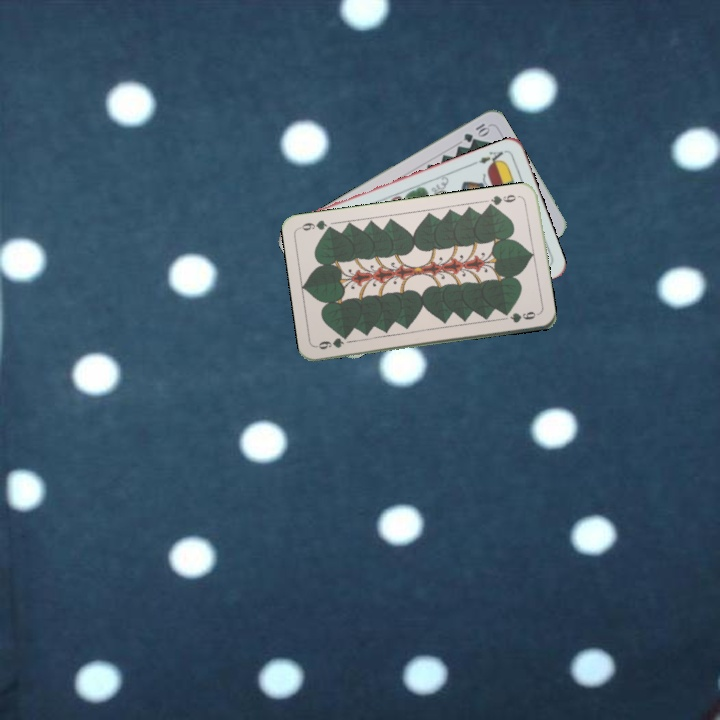EA: (469, 147, 508, 169)
G10: (460, 119, 492, 145)
G9: (313, 332, 350, 352), (484, 190, 518, 210)
